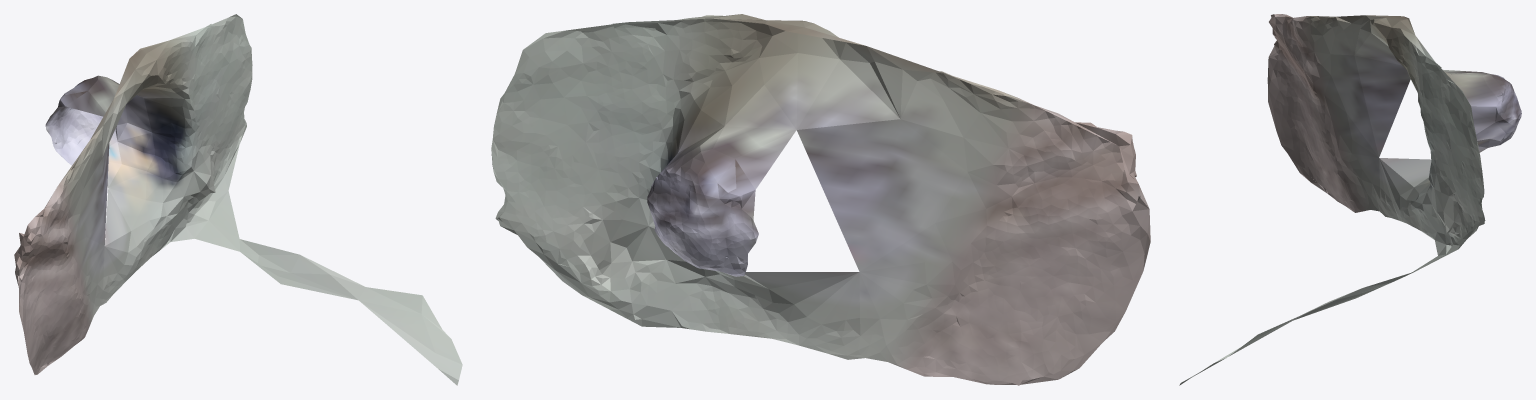
Rendered from myModel.glb.
3 views of the same model, side by side, from view 1: azimuth 30°, elevation 25°; view 2: azimuth 150°, elevation 25°; view 3: azimuth 270°, elevation 25° (orthographic). The views are drawn at different scales.
Parts seen in each view (by area): view 1: texturedMesh; view 2: texturedMesh; view 3: texturedMesh.
Boxes of the visible parts, x1,y1,x2,y2 form: texturedMesh: [14, 14, 462, 385]; texturedMesh: [491, 14, 1150, 385]; texturedMesh: [1179, 14, 1521, 385].
Size of the model in its own units: 4.82 by 3.37 by 3.77.
1 material, 1 textured.
